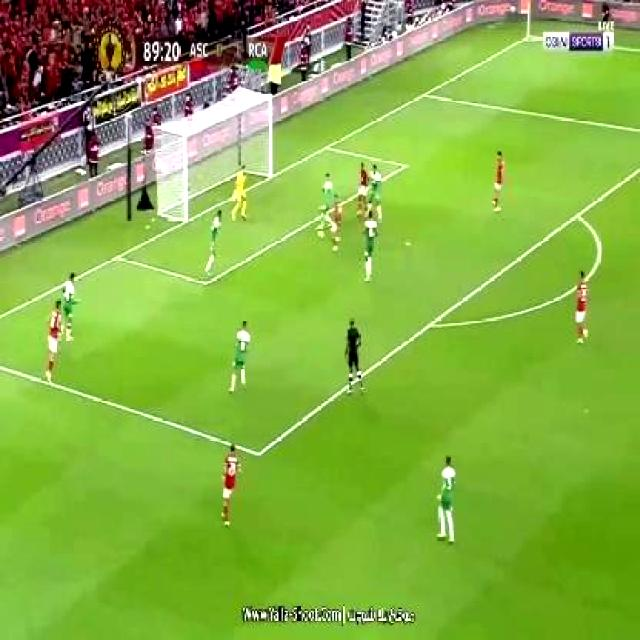bigarea_bottom_inner: (249, 438, 268, 469)
bigarea_top_outter: (418, 88, 431, 101)
bottom_arc_area_intersection: (423, 311, 440, 335)
corner: (522, 30, 538, 42)
smallarea_bottom_inner: (198, 269, 216, 294)
smallarea_bottom_outter: (109, 248, 123, 266)
smallarea_top_inner: (398, 157, 411, 174)
smallarea_top_outter: (318, 140, 331, 155)
top_arc_area_intersection: (570, 206, 582, 223)
